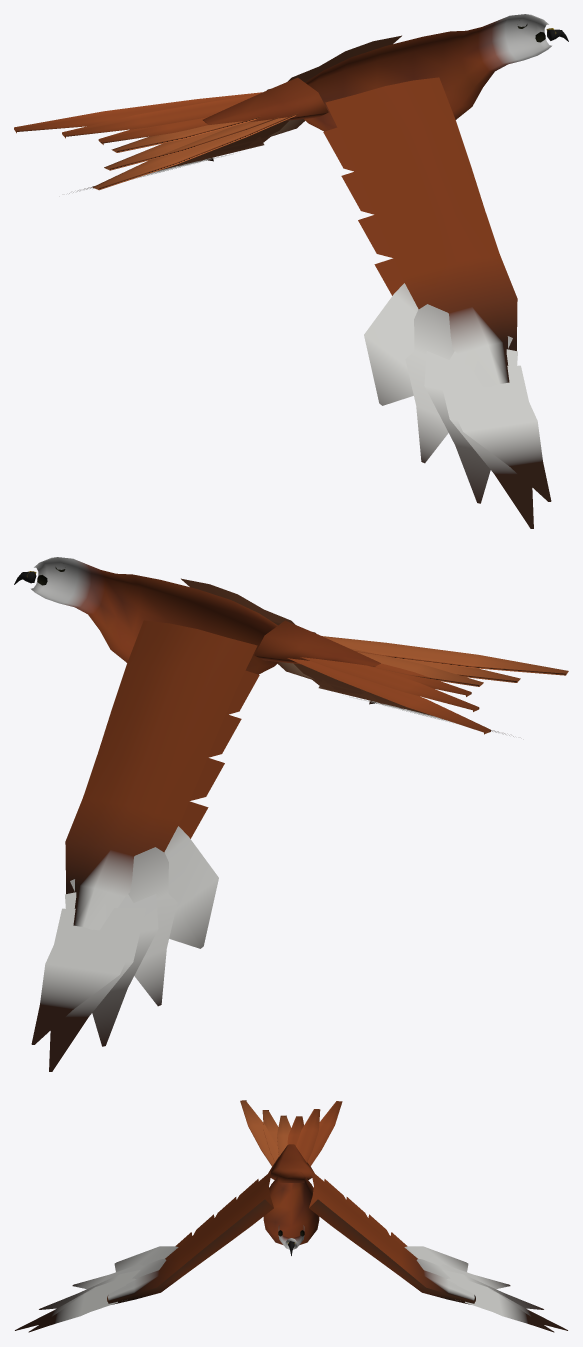
The model's file is SM_Bird_red_kite_flap2_LOD1.glb.
3 views of the same model, one above another, from view 1: azimuth 30°, elevation 25°; view 2: azimuth 150°, elevation 25°; view 3: azimuth 270°, elevation 25° (orthographic). The views are drawn at different scales.
Parts seen in each view (by area): view 1: SM_Bird_red_kite_flap2_LOD1; view 2: SM_Bird_red_kite_flap2_LOD1; view 3: SM_Bird_red_kite_flap2_LOD1.
Part boxes in pixels (x1,y1,x2,y2): SM_Bird_red_kite_flap2_LOD1: (14, 14, 568, 528); SM_Bird_red_kite_flap2_LOD1: (14, 557, 568, 1071); SM_Bird_red_kite_flap2_LOD1: (15, 1100, 567, 1332).
Bounding box in the file's own units: 0.8073 × 0.4376 × 1.26.
